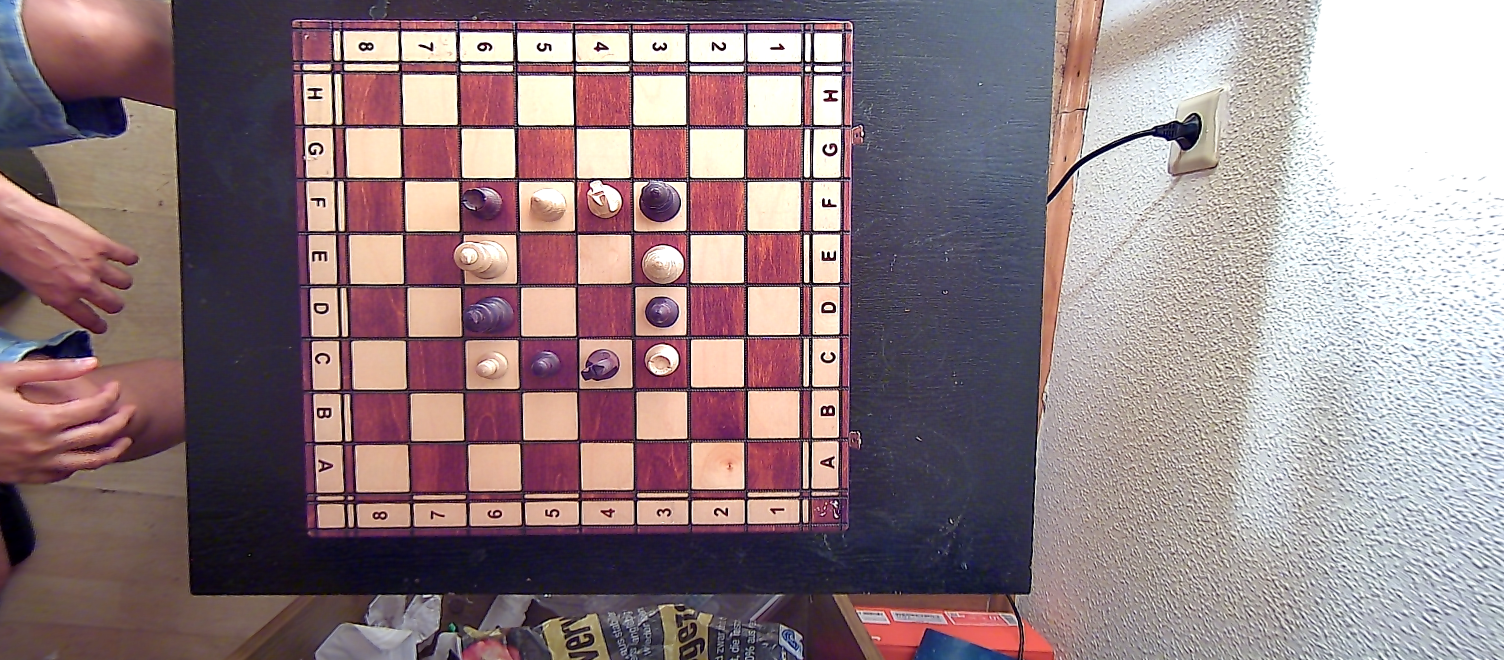black-bishop: (643, 292, 681, 331)
black-king: (462, 295, 515, 335)
black-knight: (580, 346, 622, 385)
black-pawn: (530, 347, 561, 381)
black-queen: (637, 178, 684, 224)
black-rook: (458, 183, 504, 221)
white-bishop: (527, 183, 569, 224)
white-king: (451, 236, 510, 282)
white-knight: (583, 178, 625, 222)
white-pawn: (474, 347, 510, 384)
white-queen: (640, 242, 686, 285)
white-rook: (642, 339, 680, 380)
